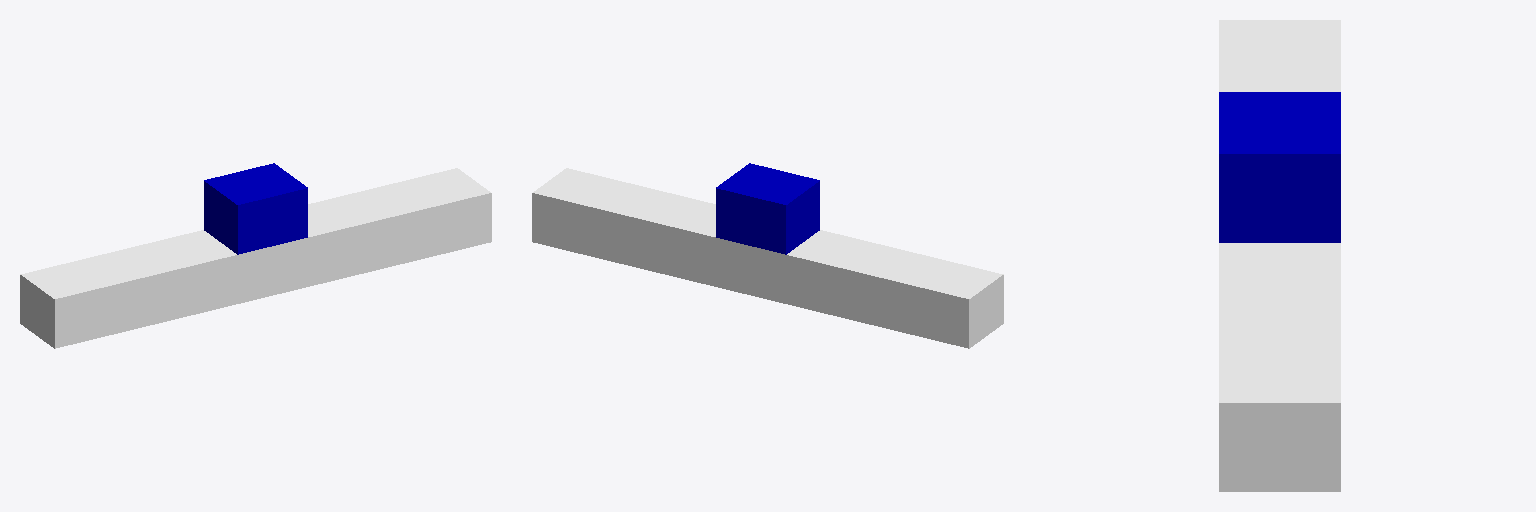
robot.urdf — linear_actuator:
<?xml version="1.0" encoding="utf-8"?>
<!-- =================================================================================== -->
<!-- |    This document was autogenerated by xacro from linear_actuator.urdf.xacro     | -->
<!-- |    EDITING THIS FILE BY HAND IS NOT RECOMMENDED                                 | -->
<!-- =================================================================================== -->
<robot name="linear_actuator">
  <material name="red">
    <color rgba="0.8 0 0 1"/>
  </material>
  <material name="blue">
    <color rgba="0 0 0.8 1"/>
  </material>
  <material name="white">
    <color rgba="1 1 1 1"/>
  </material>
  <material name="black">
    <color rgba="0 0 0 1"/>
  </material>
  <link name="world">
		</link>
  <joint name="joint_w" type="fixed">
    <parent link="world"/>
    <child link="actuator_base"/>
    <origin xyz="0 0 0"/>
  </joint>
  <link name="actuator_base">
    <visual>
      <origin rpy="0 0 0" xyz="0 0 0.02"/>
      <geometry>
        <box size="0.37 0.05 0.04"/>
        <!-- <mesh filename="package://add_post_pro_robot/meshes/LinActBase.dae" scale="0.01 0.01 0.01"/> -->
      </geometry>
      <material name="white"/>
    </visual>
    <collision>
      <origin rpy="0 0 0" xyz="0 0 0.02"/>
      <geometry>
        <box size="0.37 0.05 0.04"/>
        <!-- <mesh filename="package://add_post_pro_robot/meshes/LinActBase.dae" scale="0.01 0.01 0.01"/> -->
      </geometry>
    </collision>
    <inertial>
      <origin rpy="0 0 0" xyz="0 0 0"/>
      <mass value="1"/>
      <inertia ixx="100" ixy="0" ixz="0" iyy="100" iyz="0" izz="100"/>
    </inertial>
  </link>
  <joint name="linear_prismatic_joint" type="prismatic">
    <parent link="actuator_base"/>
    <child link="linear_stage"/>
    <origin rpy="0 0 0" xyz="0 0 0"/>
    <limit effort="1000.0" lower="-6.28" upper="6.28" velocity="0.5"/>
    <limit effort="1000.0" velocity="0.5"/>
    <axis xyz="1 0 0"/>
    <limit lower="-0.155" upper="0.155"/>
  </joint>
  <link name="linear_stage">
    <visual>
      <origin rpy="0 0 0" xyz="0 0 0.06"/>
      <geometry>
        <box size="0.06 0.05 0.04"/>
        <!-- <mesh filename="package://add_post_pro_robot/meshes/LinActSlider.dae" scale="0.01 0.01 0.01"/> -->
      </geometry>
      <material name="blue"/>
    </visual>
    <collision>
      <origin rpy="0 0 0" xyz="0 0 0.06"/>
      <geometry>
        <box size="0.06 0.05 0.04"/>
        <!-- <mesh filename="package://add_post_pro_robot/meshes/LinActSlider.dae" scale="0.01 0.01 0.01"/> -->
      </geometry>
    </collision>
    <inertial>
      <origin rpy="0 0 0" xyz="0 0 0"/>
      <mass value="1"/>
      <inertia ixx="100" ixy="0" ixz="0" iyy="100" iyz="0" izz="100"/>
    </inertial>
  </link>
  <gazebo>
    <plugin filename="libgazebo_ros_control.so" name="gazebo_ros_control">
      <robotNamespace>/</robotNamespace>
    </plugin>
  </gazebo>
</robot>

--- Facts derived from the render (not from the file) ---
Views: 3 orthographic renders of the robot side by side, from view 1: azimuth 30°, elevation 25°; view 2: azimuth 150°, elevation 25°; view 3: azimuth 270°, elevation 25°.
Robot: linear_actuator — 3 links, 2 joints (1 prismatic, 1 fixed); root link world; default pose: all joints at 0.
Links seen in each view (by area): view 1: actuator_base, linear_stage; view 2: actuator_base, linear_stage; view 3: actuator_base, linear_stage.
Link boxes in pixels (<box>): actuator_base: <box>20,168,491,348</box>; linear_stage: <box>204,163,307,254</box>; actuator_base: <box>532,168,1003,348</box>; linear_stage: <box>716,163,819,254</box>; actuator_base: <box>1219,20,1340,491</box>; linear_stage: <box>1219,92,1340,242</box>.
Bounding box of the posed robot: 0.37 × 0.05 × 0.08 m (x, y, z).
Geometry: primitives only (box / cylinder / sphere), no mesh files.